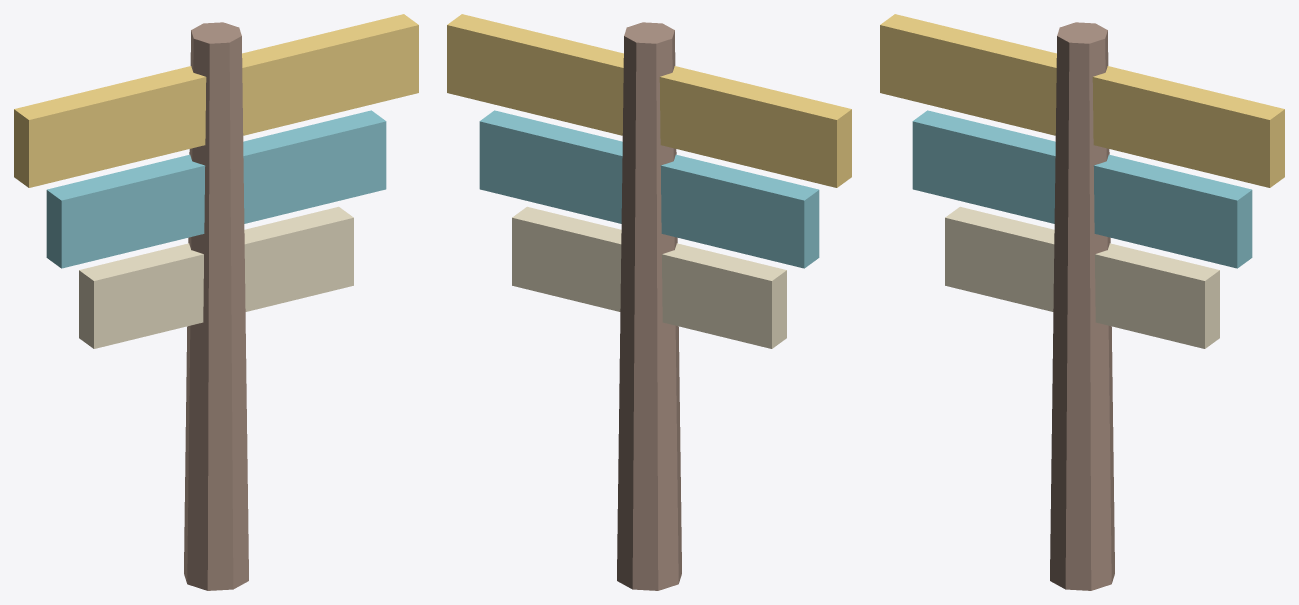
The model's file is 08_TrailSign.glb.
3 renders of one model, left to right at view 1: azimuth 30°, elevation 25°; view 2: azimuth 150°, elevation 25°; view 3: azimuth 330°, elevation 25°, orthographic.
Parts seen in each view (by area): view 1: 08_TrailSign; view 2: 08_TrailSign; view 3: 08_TrailSign.
Boxes of the visible parts, x1=… form: 08_TrailSign: x1=14, y1=14, x2=418, y2=590; 08_TrailSign: x1=447, y1=14, x2=851, y2=590; 08_TrailSign: x1=880, y1=14, x2=1284, y2=590.
Size of the model in its own units: 6 by 8 by 0.9.
